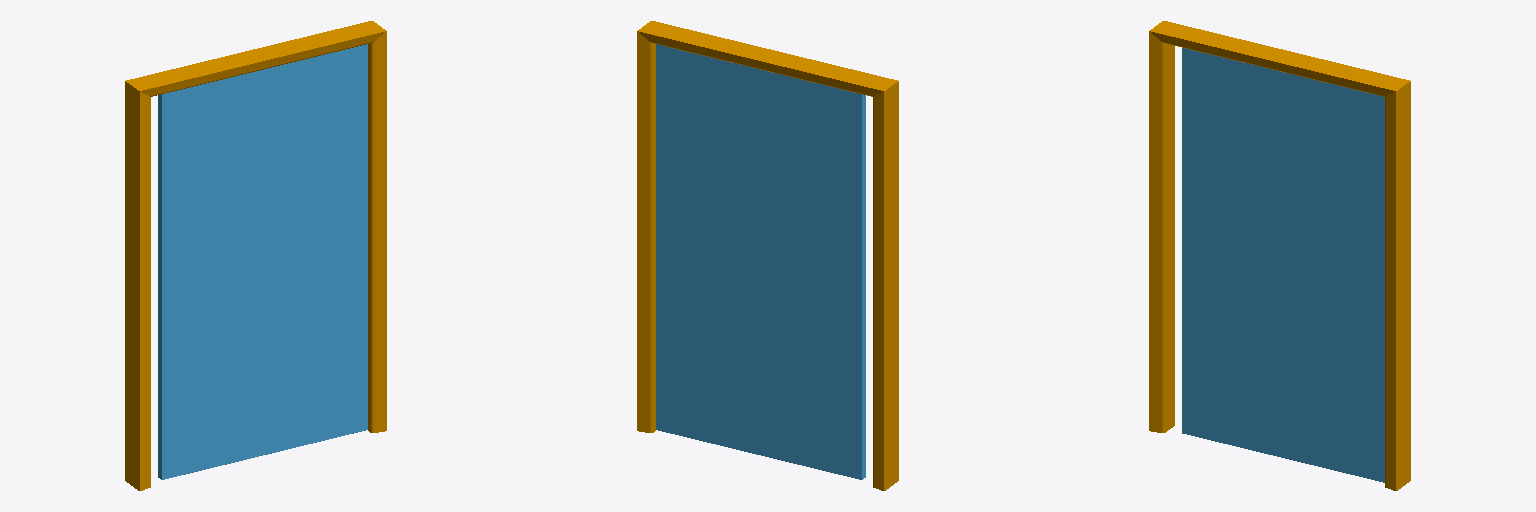
robot.urdf — 8903:
<?xml version="1.0" ?>
<robot name="8903" version="1.0">
  <link name="base_link">
    <visual name="link_0___1">
      <origin rpy="0.0 0.0 0.0" xyz="0.0 -0.0 0.0"/>
      <geometry>
        <mesh filename="shape/visual/link_0_m1_vm.obj" scale="1.5 1 1"/>
      </geometry>
    </visual>
    <collision>
      <origin rpy="0.0 0.0 0.0" xyz="0.0 -0.0 0.0"/>
      <geometry>
        <mesh filename="shape/collision/link_0_cm.obj" scale="1.5 1 1"/>
      </geometry>
    </collision>
  </link>
  <!-- <link name="link_1">
    <visual name="link_1___2">
      <origin rpy="0.0 0.0 0.0" xyz="0.2718480576000603 0.07412800192832969 -0.14707143841511927"/>
      <geometry>
        <mesh filename="shape/visual/link_1_m1_vm.obj"/>
      </geometry>
    </visual>
    <collision>
      <origin rpy="0.0 0.0 0.0" xyz="0.2718480576000603 0.07412800192832969 -0.14707143841511927"/>
      <geometry>
        <mesh filename="shape/collision/link_1_cm.obj"/>
      </geometry>
    </collision> 
  </link>-->
  <link name="link_2">
    <visual name="link_2___1">
      <origin rpy="0.0 0.0 0.0" xyz="-0.46034833274488377 0.0017434567958520795 -0.8958240151405333"/>
      <geometry>
        <mesh filename="shape/visual/link_2_m1_vm.obj" scale="1.5 1 1"/>
      </geometry>
    </visual>
    <!-- <visual name="link_2___2">
      <origin rpy="0.0 0.0 0.0" xyz="-0.37034833274488377 0.0017434567958520795 -0.8958240151405333"/>
      <geometry>
        <mesh filename="shape/visual/link_2_m2_vm.obj"/>
      </geometry>
    </visual> -->
    <collision>
      <origin rpy="0.0 0.0 0.0" xyz="-0.46034833274488377 0.0017434567958520795 -0.8958240151405333"/>
      <geometry>
        <mesh filename="shape/collision/link_2_cm.obj" scale="1.5 1 1"/>
      </geometry>
    </collision>
  </link>

  <!-- <joint name="joint_1" type="revolute">
    <origin rpy="0.0 0.0 0.0" xyz="0.6421963903449441 -0.0723845451324776 -0.7487525767254141"/>
    <axis xyz="0.0 -1.0 0.0"/>
    <parent link="link_2"/>
    <child link="link_1"/>
    <limit lower="0.0" upper="1.5707963267948966"/>
  </joint> -->
  <joint name="joint_2" type="revolute">
    <origin rpy="0.0 0.0 0.0" xyz="0.52034833274488377 -0.0017434567958520795 0.8958240151405333"/>
    <axis xyz="0.0 -0.0 0.9999999999999999"/>
    <parent link="base_link"/>
    <child link="link_2"/>
    <limit lower="0.0" upper="1.5707963267948966"/>
  </joint>
</robot>

--- Render facts (derived) ---
Views: 3 orthographic renders of the robot side by side, from view 1: azimuth 30°, elevation 25°; view 2: azimuth 150°, elevation 25°; view 3: azimuth 330°, elevation 25°.
Model 8903 with 2 links and 1 joints (1 revolute), rooted at base_link, posed all joints at 0.
Links seen in each view (by area): view 1: link_2, base_link; view 2: link_2, base_link; view 3: link_2, base_link.
Boxes of the visible links, x1=… form: link_2: x1=158, y1=44, x2=367, y2=479; base_link: x1=125, y1=21, x2=386, y2=490; link_2: x1=656, y1=44, x2=865, y2=479; base_link: x1=637, y1=21, x2=898, y2=490; link_2: x1=1182, y1=48, x2=1384, y2=482; base_link: x1=1149, y1=21, x2=1410, y2=490.
Bounding box of the posed robot: 1.17 × 0.119 × 1.82 m (x, y, z).
2 mesh visuals loaded from 2 distinct referenced files (2 OBJ).